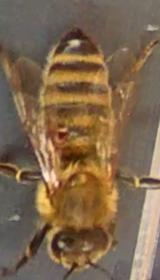varroa_mite: (49, 112, 72, 146)
